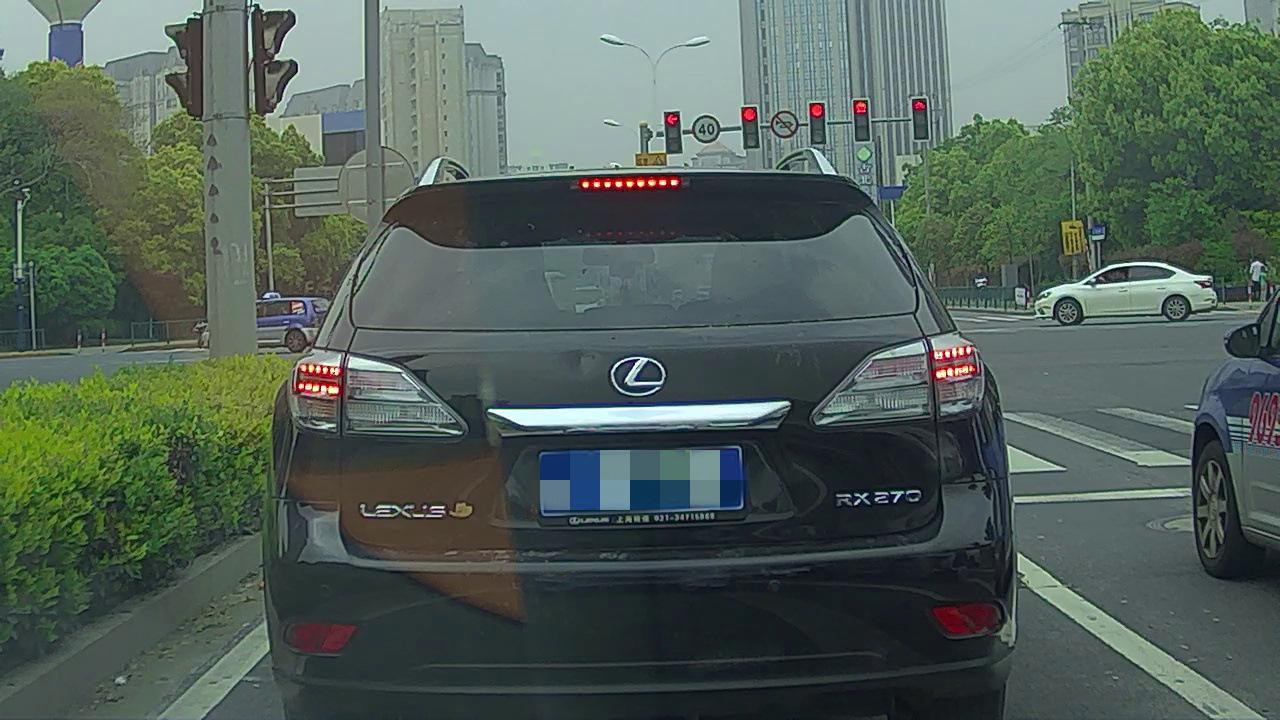traffic_light: (853, 98, 871, 143), (664, 111, 683, 153), (741, 107, 760, 148), (810, 102, 828, 145), (912, 98, 928, 141)
